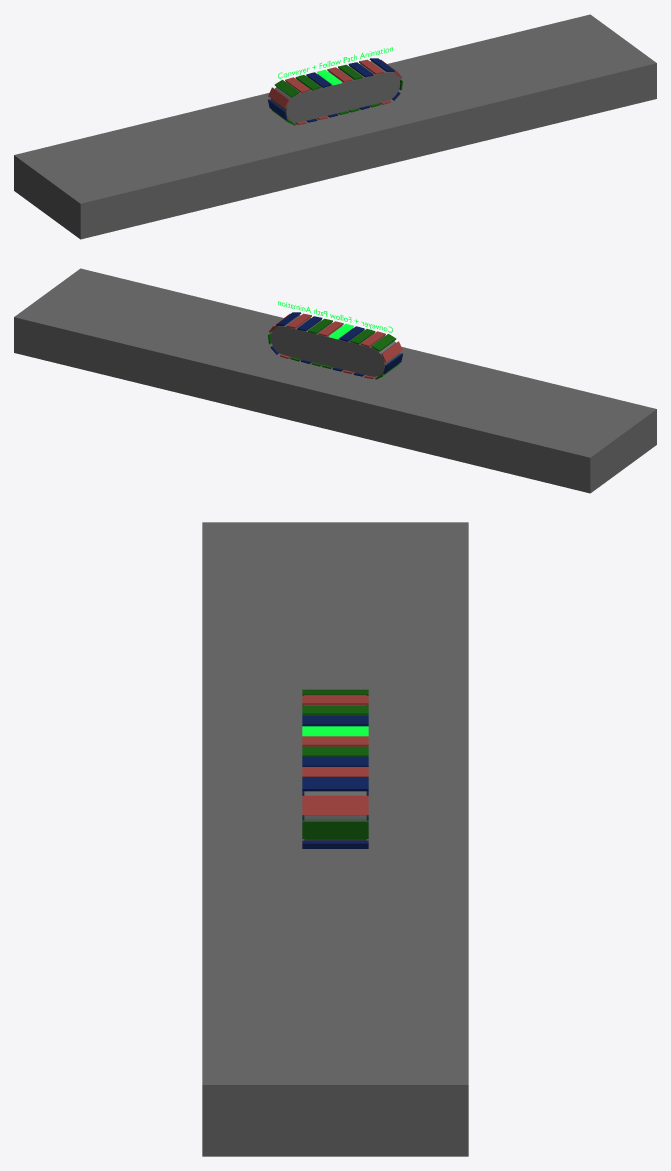
The model's file is Conveyer.glb.
3 views of the same model, one above another, from view 1: azimuth 30°, elevation 25°; view 2: azimuth 150°, elevation 25°; view 3: azimuth 270°, elevation 25° (orthographic). The views are drawn at different scales.
Parts seen in each view (by area): view 1: Plane.001, base, Text; view 2: Plane.001, base, Text; view 3: Plane.001, blade, blade.001, blade.024, base.
Boxes of the visible parts, x1,y1,x2,y2 form: Plane.001: [14, 14, 656, 239]; base: [270, 61, 400, 122]; Text: [278, 47, 392, 78]; Plane.001: [14, 268, 656, 493]; base: [270, 315, 400, 376]; Text: [278, 301, 392, 332]; Plane.001: [202, 522, 468, 1156]; blade: [302, 795, 368, 815]; blade.001: [302, 820, 368, 838]; blade.024: [302, 777, 368, 791]; base: [304, 695, 366, 840].
Bounding box in the file's own units: 40 × 5.68 × 8.
